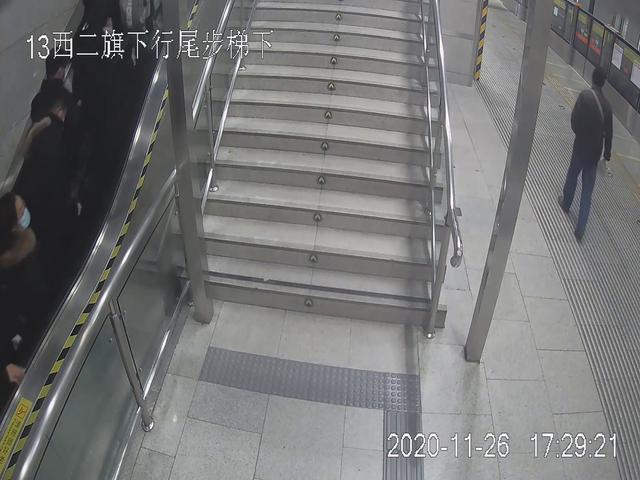person: (554, 60, 616, 243)
